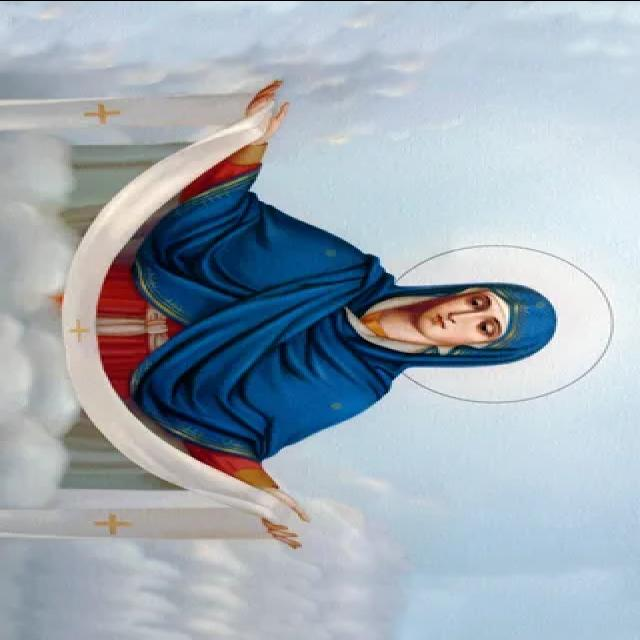mother of god: (0, 71, 570, 553)
